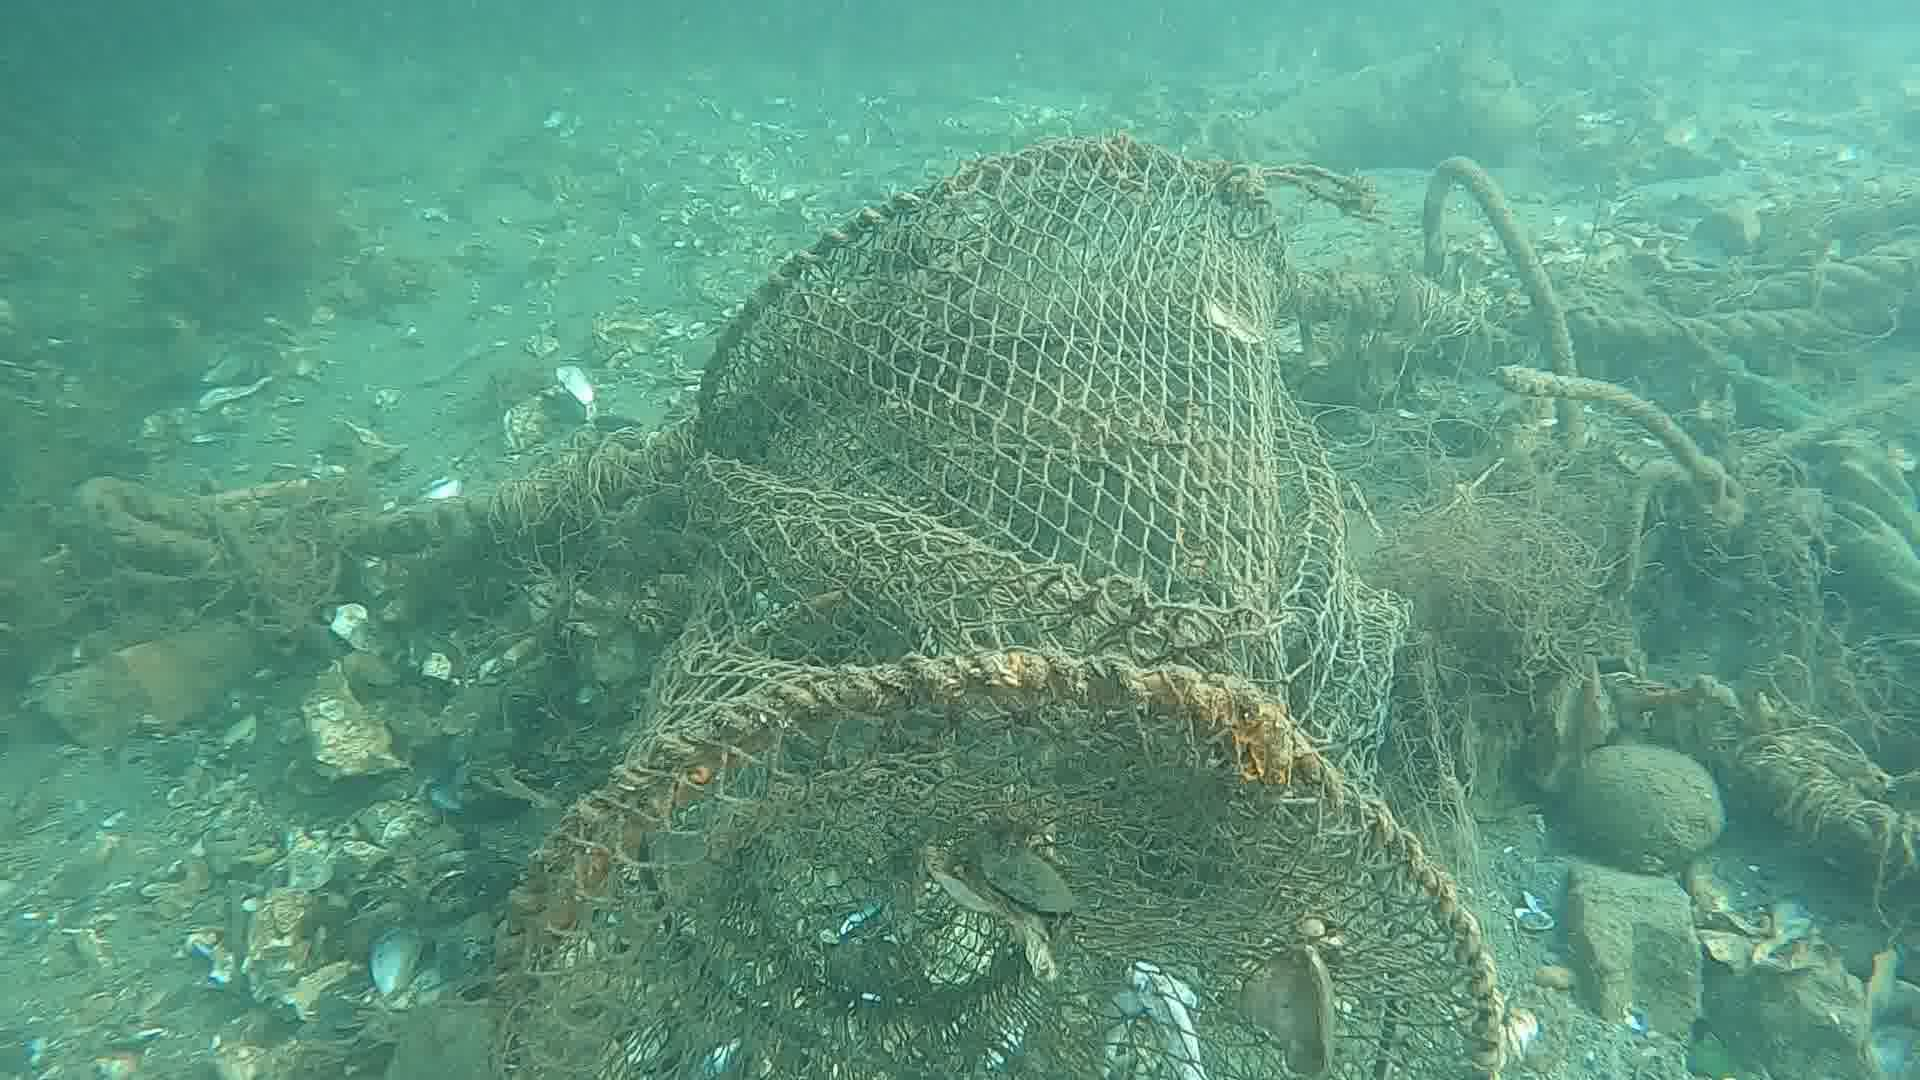bundle of ropes: (1571, 244, 1920, 351)
rope: (61, 473, 485, 579)
spring fish trap: (485, 133, 1501, 1080)
